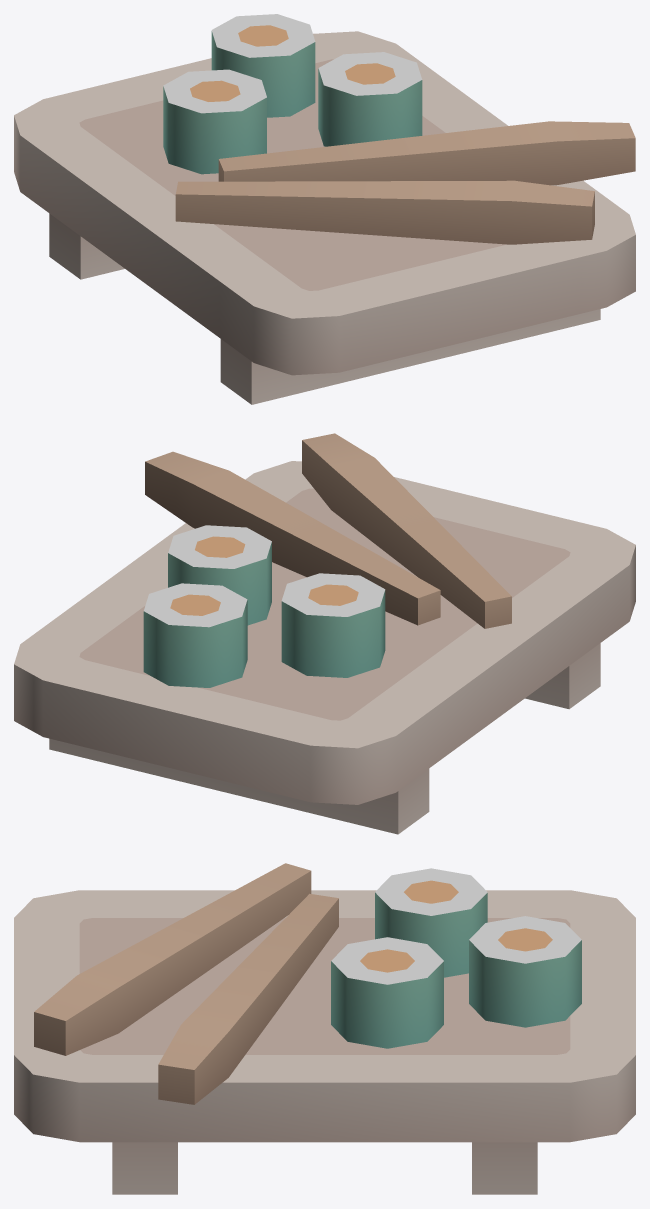
File: sushi.glb
The picture shows the model from 3 angles, top to bottom: view 1: azimuth 30°, elevation 25°; view 2: azimuth 150°, elevation 25°; view 3: azimuth 270°, elevation 25°; orthographic projection. The views are drawn at different scales.
Parts seen in each view (by area): view 1: sushi; view 2: sushi; view 3: sushi.
Part boxes in pixels (x1=…): sushi: x1=14, y1=14, x2=635, y2=404; sushi: x1=14, y1=433, x2=635, y2=834; sushi: x1=14, y1=863, x2=635, y2=1194.
Size of the model in its own units: 0.3176 by 0.123 by 0.3789.
